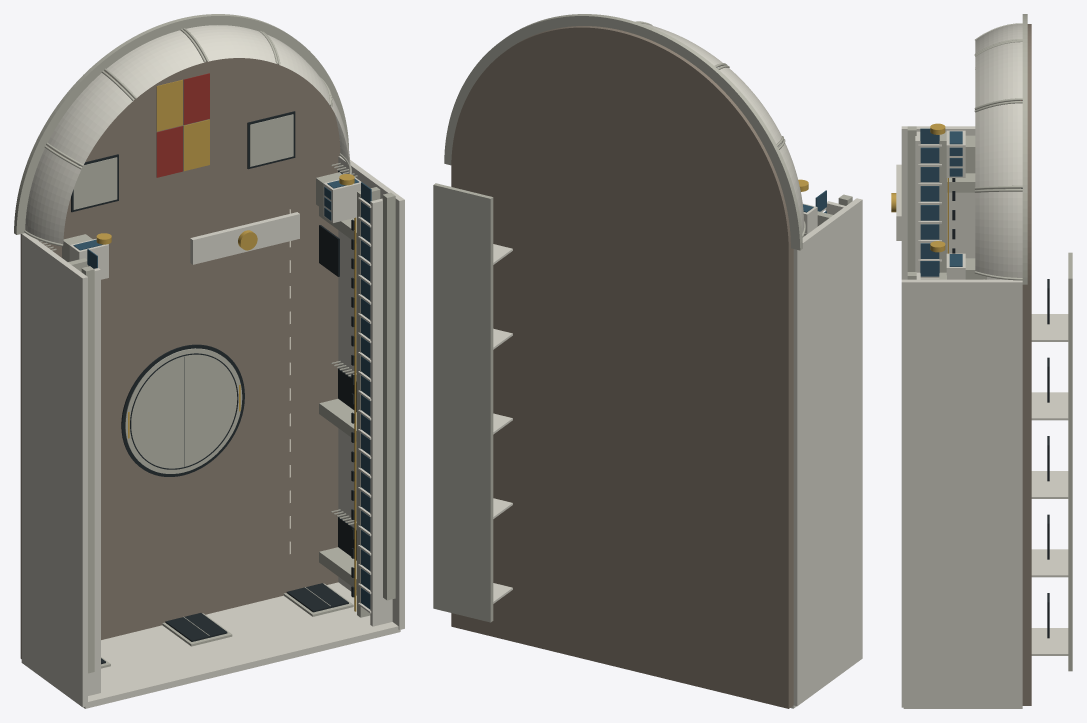
Rendered from hangar.glb.
3 views of the same model, side by side, from view 1: azimuth 30°, elevation 25°; view 2: azimuth 150°, elevation 25°; view 3: azimuth 270°, elevation 25° (orthographic). The views are drawn at different scales.
Visible parts, largest first — view 1: Material surface details (×12); view 2: Material surface details (×4); view 3: Material surface details (×10).
Boxes of the visible parts, x1,y1,x2,y2 form: Material surface details (×12): [14, 14, 404, 708]; Material surface details (×4): [433, 14, 862, 708]; Material surface details (×10): [891, 14, 1072, 708].
Bounding box in the file's own units: 21.1 × 36.74 × 10.06.
